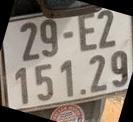-: (63, 32, 75, 39)
.: (80, 89, 87, 95)
1: (13, 68, 30, 106), (60, 59, 75, 97)
2: (20, 21, 41, 60), (89, 54, 108, 93), (98, 11, 118, 48)
5: (33, 65, 56, 101)
9: (40, 20, 60, 60), (111, 51, 129, 86)
E: (78, 14, 98, 52)
